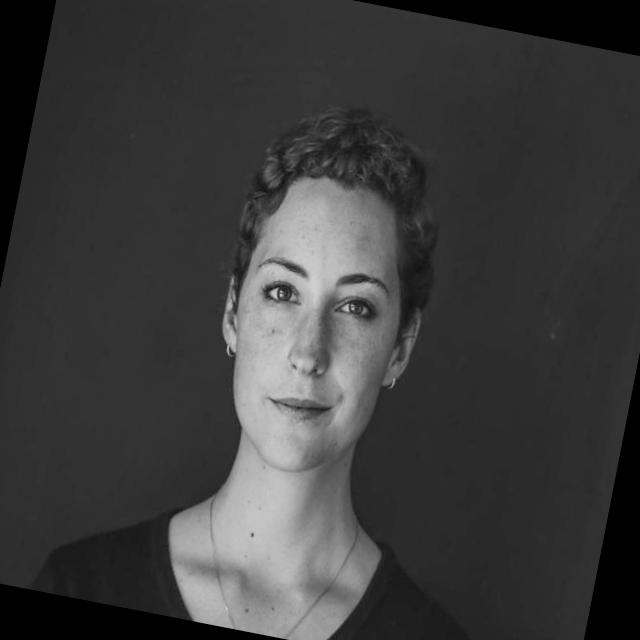person: (28, 63, 582, 640)
